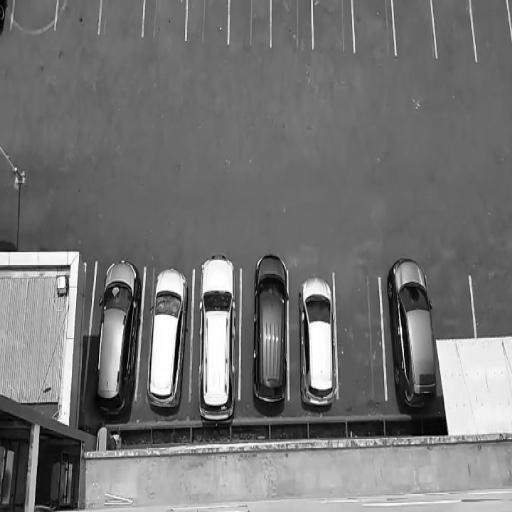Car: (386, 255, 439, 409), (196, 254, 239, 426), (95, 260, 141, 420), (251, 244, 291, 416), (147, 266, 191, 412), (297, 272, 341, 418)
Space Available: (338, 276, 380, 399), (432, 265, 468, 338), (475, 266, 510, 333), (314, 0, 351, 57), (354, 1, 394, 52), (396, 1, 432, 55), (434, 0, 471, 51), (230, 0, 269, 48), (474, 4, 508, 56), (188, 0, 227, 45), (274, 0, 310, 45), (102, 0, 142, 36), (147, 0, 185, 37), (60, 0, 98, 36), (15, 0, 53, 31)
